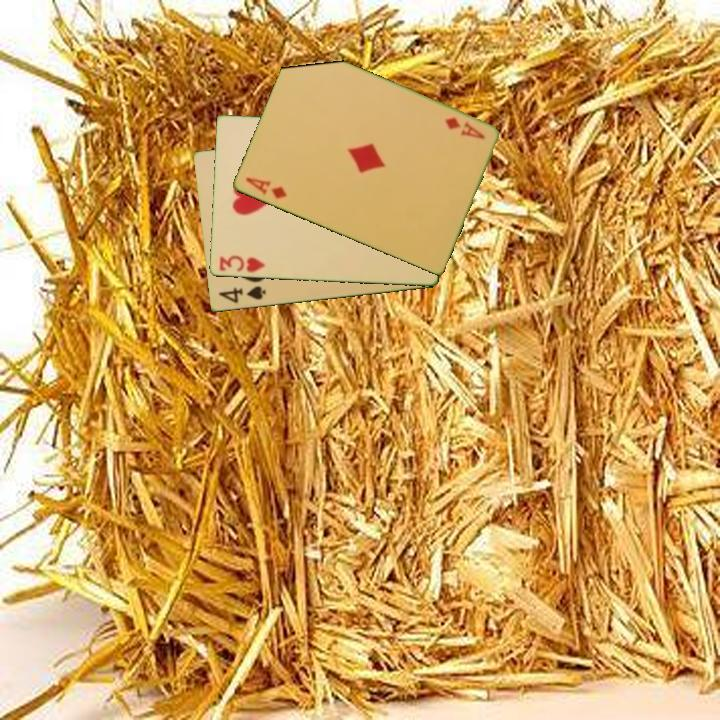3h: (215, 252, 268, 275)
4s: (215, 283, 269, 306)
Ad: (241, 174, 289, 202), (441, 114, 488, 142)
